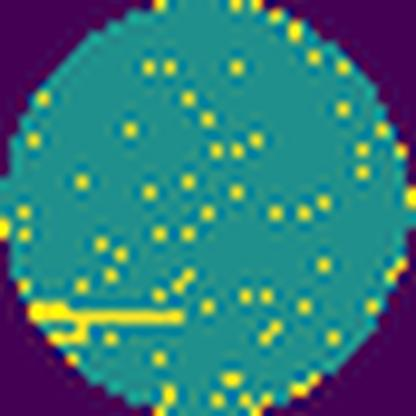Scratch: (28, 298, 188, 348)
